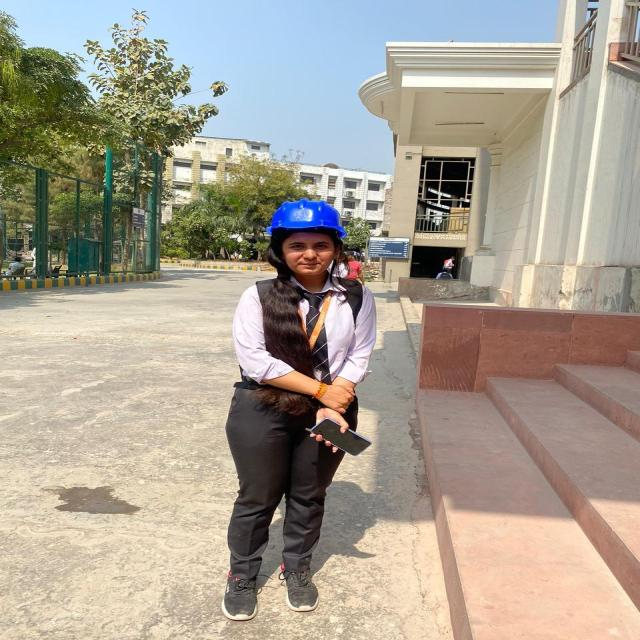no jacket: (234, 199, 376, 611)
